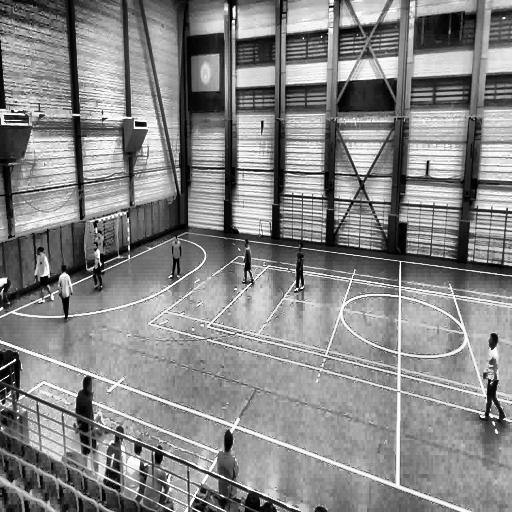player: (479, 331, 507, 422), (76, 374, 100, 475), (143, 440, 174, 512), (126, 434, 149, 504), (216, 429, 238, 499), (104, 424, 127, 490), (36, 246, 52, 302), (57, 265, 73, 320), (92, 237, 104, 291), (170, 234, 182, 278), (295, 241, 305, 291), (96, 229, 106, 274), (243, 240, 253, 282), (0, 275, 11, 311)
